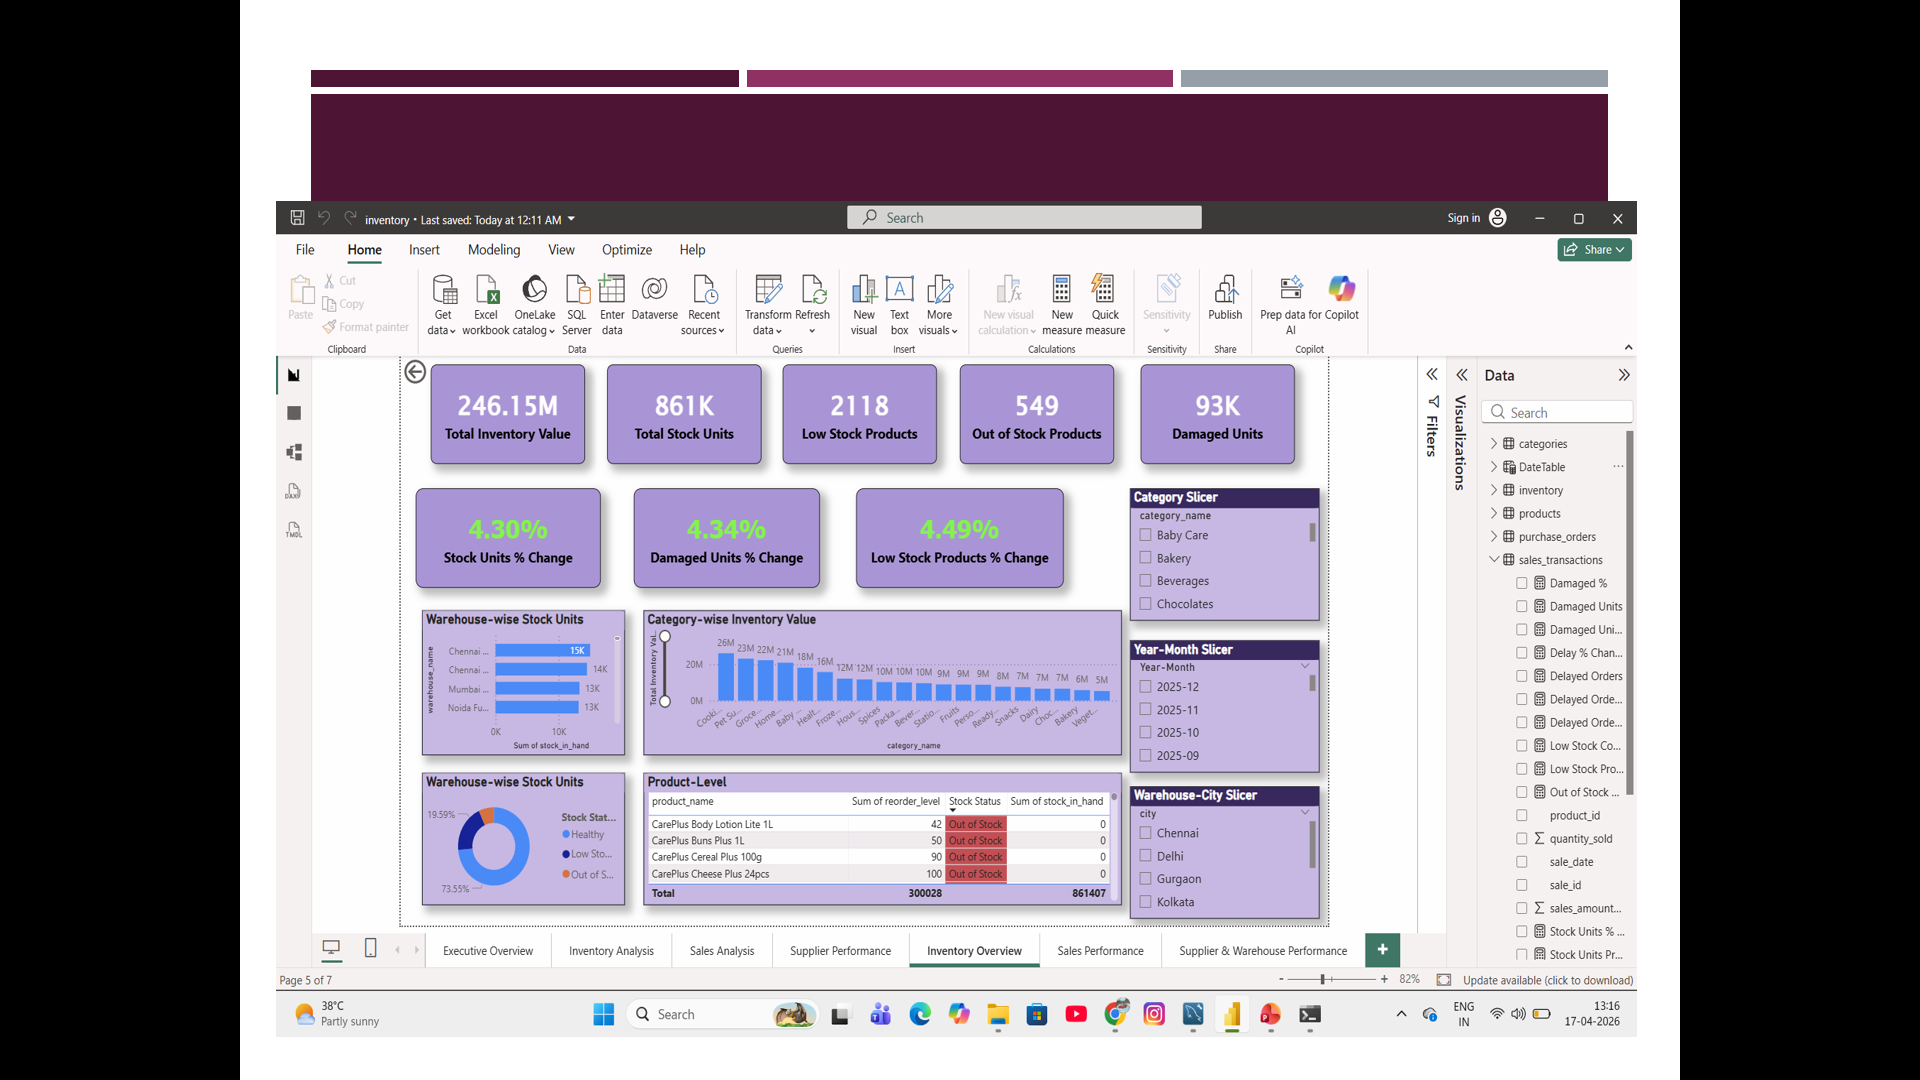

Layout of this report page (visuals, bound fields, positions):
{"tool":"powerbi","page":{"name":"Inventory Overview","canvas":[1280,720],"ordinal":0},"visuals":[{"type":"card","fields":{"Values":["sales_transactions.Total Inventory Value"]},"box":[41.6,11,212.8,126],"z":0},{"type":"clusteredColumnChart","title":"Category-wise Inventory Value","fields":{"Category":["categories.category_name"],"Y":["sales_transactions.Total Inventory Value"]},"box":[335.1,321.6,660.3,183.4],"z":1000},{"type":"clusteredBarChart","title":"Warehouse-wise Stock Units","fields":{"Category":["warehouses.warehouse_name"],"Y":["Sum(inventory.stock_in_hand)"]},"box":[29.3,321.6,280,183.4],"z":2000},{"type":"donutChart","title":"Warehouse-wise Stock Units","fields":{"Category":["inventory.Stock Status"],"Y":["CountNonNull(inventory.inventory_id)"]},"box":[29.3,527,280,167.5],"z":3000},{"type":"tableEx","title":"Product-Level","fields":{"Values":["products.product_name","Sum(products.reorder_level)","inventory.Stock Status","Sum(inventory.stock_in_hand)"]},"box":[335.1,527,660.3,167.5],"z":4000},{"type":"slicer","title":"Category Slicer","fields":{"Values":["categories.category_name"]},"box":[1006.4,167.5,261.7,167.5],"z":5000},{"type":"slicer","title":"Year-Month Slicer","fields":{"Values":["DateTable.Year-Month"]},"box":[1006.4,359.5,261.7,167.5],"z":6000},{"type":"slicer","title":"Warehouse-City Slicer","fields":{"Values":["warehouses.city"]},"box":[1006.4,544.2,261.7,167.5],"z":7000},{"type":"card","fields":{"Values":["DateTable.Damaged Units % Change"]},"box":[321.6,167.5,256.8,126],"z":8000},{"type":"card","fields":{"Values":["DateTable.Low Stock Products % Change"]},"box":[628.5,167.5,286.1,126],"z":9000},{"type":"card","fields":{"Values":["sales_transactions.Stock Units % Change"]},"box":[20.8,167.5,255.6,126],"z":10000},{"type":"card","fields":{"Values":["sales_transactions.Damaged Units"]},"box":[1021.1,11,212.8,126],"z":11000},{"type":"card","fields":{"Values":["sales_transactions.Total Stock Units"]},"box":[284.9,11,212.8,126],"z":12000},{"type":"card","fields":{"Values":["sales_transactions.Low Stock Products"]},"box":[527,11,212.8,126],"z":13000},{"type":"card","fields":{"Values":["DateTable.Out of Stock Products"]},"box":[771.6,11,212.8,126],"z":14000},{"type":"actionButton","box":[0,0,100,40],"z":15000}]}

Visuals, with their boxes on the page's 1280x720 design canvas (x1, y1, x2, y2). These are canvas units, not pixel positions in the 1920x1080 screenshot, which may show the page scaled, cropped or inside an application window:
card - sales_transactions.Total Inventory Value: <region>42, 11, 254, 137</region>
"Category-wise Inventory Value" clusteredColumnChart: <region>335, 322, 995, 505</region>
"Warehouse-wise Stock Units" clusteredBarChart: <region>29, 322, 309, 505</region>
"Warehouse-wise Stock Units" donutChart: <region>29, 527, 309, 694</region>
"Product-Level" tableEx: <region>335, 527, 995, 694</region>
"Category Slicer" slicer: <region>1006, 168, 1268, 335</region>
"Year-Month Slicer" slicer: <region>1006, 360, 1268, 527</region>
"Warehouse-City Slicer" slicer: <region>1006, 544, 1268, 712</region>
card - DateTable.Damaged Units % Change: <region>322, 168, 578, 294</region>
card - DateTable.Low Stock Products % Change: <region>628, 168, 915, 294</region>
card - sales_transactions.Stock Units % Change: <region>21, 168, 276, 294</region>
card - sales_transactions.Damaged Units: <region>1021, 11, 1234, 137</region>
card - sales_transactions.Total Stock Units: <region>285, 11, 498, 137</region>
card - sales_transactions.Low Stock Products: <region>527, 11, 740, 137</region>
card - DateTable.Out of Stock Products: <region>772, 11, 984, 137</region>
actionButton: <region>0, 0, 100, 40</region>
